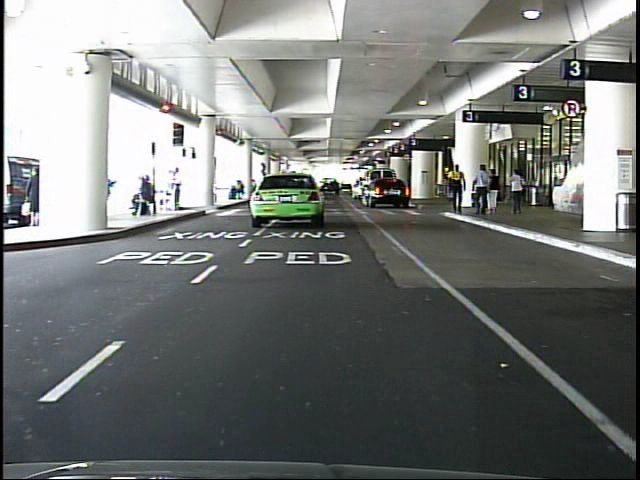person: (445, 161, 470, 219), (502, 167, 528, 218), (27, 168, 49, 226), (472, 161, 492, 220), (171, 167, 189, 215), (487, 165, 503, 219)
